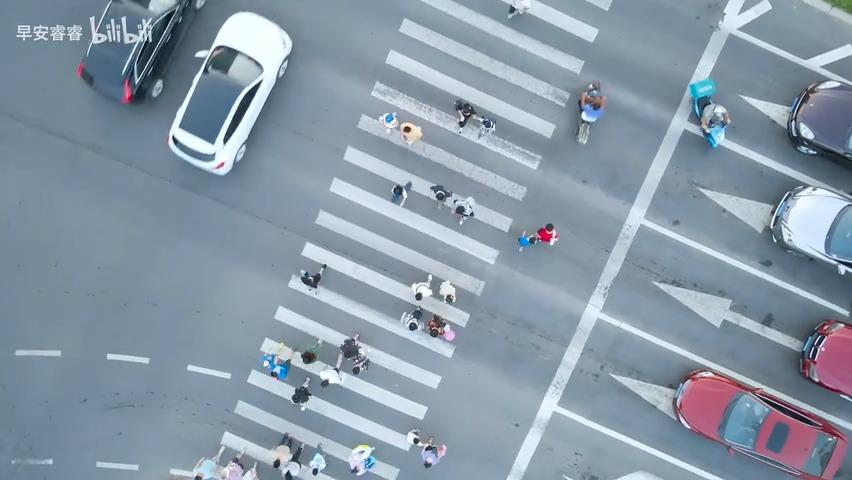Civilian: (699, 101, 730, 148), (192, 444, 226, 479), (262, 342, 293, 380), (689, 77, 716, 119), (334, 332, 361, 373), (269, 433, 298, 470), (580, 87, 609, 123), (279, 443, 304, 479), (299, 263, 327, 294), (349, 443, 375, 476), (453, 99, 477, 134), (421, 436, 446, 468), (290, 376, 312, 410), (451, 196, 475, 225), (300, 337, 323, 364), (429, 184, 452, 210), (400, 305, 423, 331), (308, 443, 327, 474), (319, 365, 344, 388), (411, 273, 432, 300), (390, 180, 411, 207), (400, 122, 423, 146), (406, 427, 432, 448), (535, 223, 558, 246), (426, 314, 448, 337), (351, 348, 370, 374), (378, 111, 399, 133), (516, 230, 537, 252), (476, 115, 496, 138), (507, 0, 531, 19), (438, 279, 456, 303)
